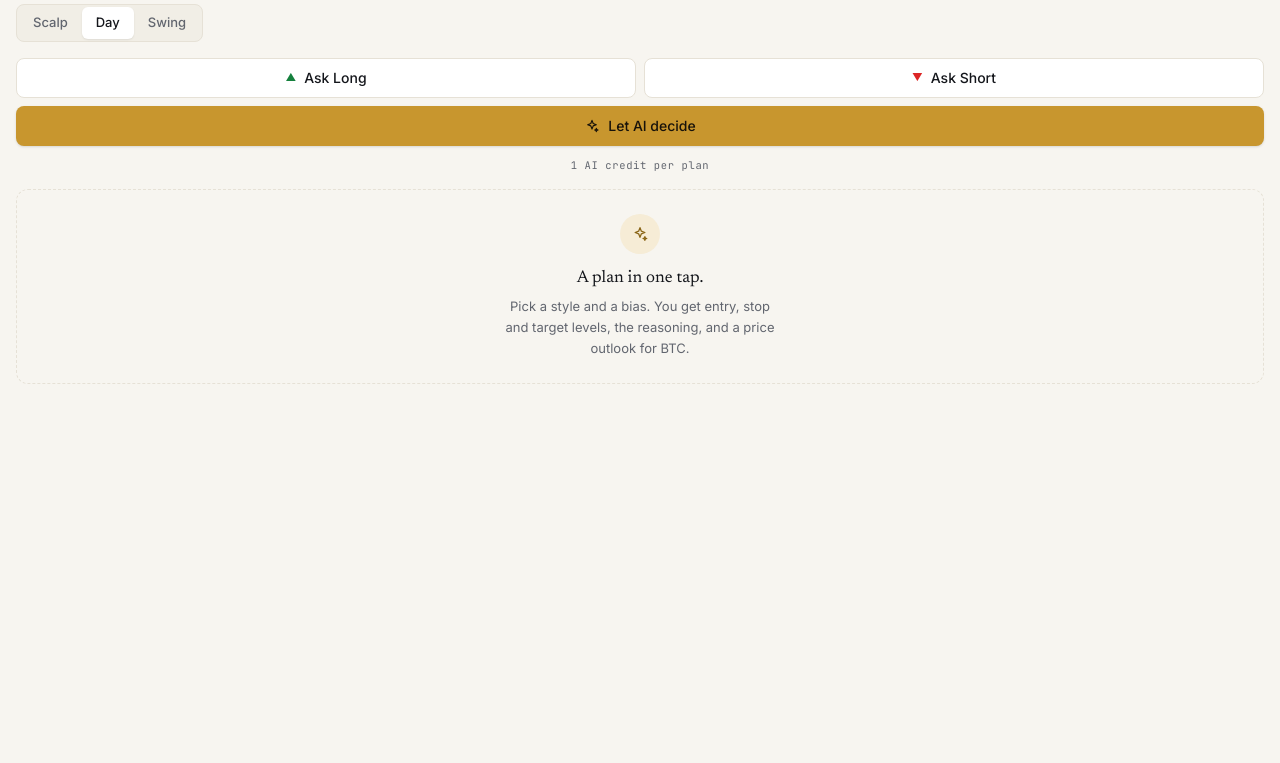
Test: Copilot › gives no hint when the daily trend disagrees or is unknown, and keeps the plain wait for Auto
Click the button "▼ Ask Short" at {"x": 954, "y": 78}, box x1=644 y1=58 x2=1264 y2=98
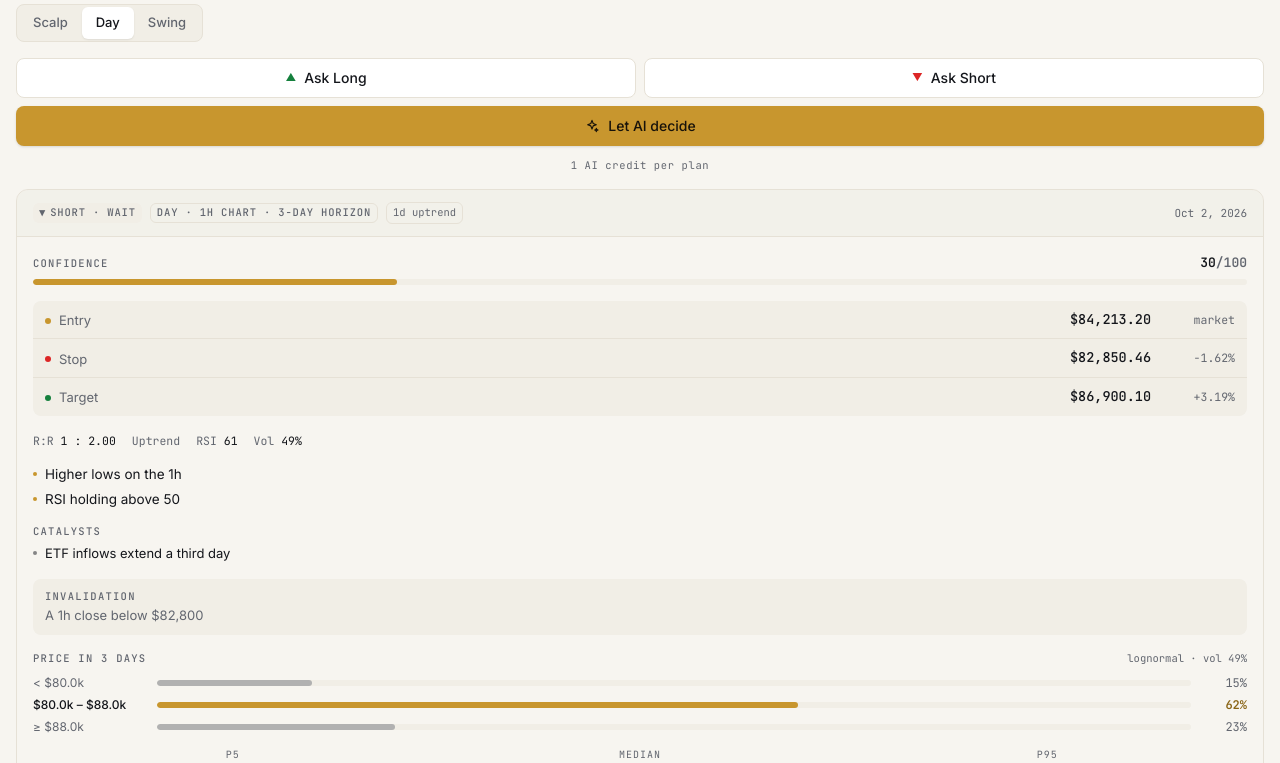
Check: the text "Neutral" is not shown
Check: the text "Short · wait" is shown, box x1=50 y1=205 x2=136 y2=219
Click the button "Let AI decide" at {"x": 640, "y": 126}, box x1=16 y1=106 x2=1264 y2=146
(page scrolled)
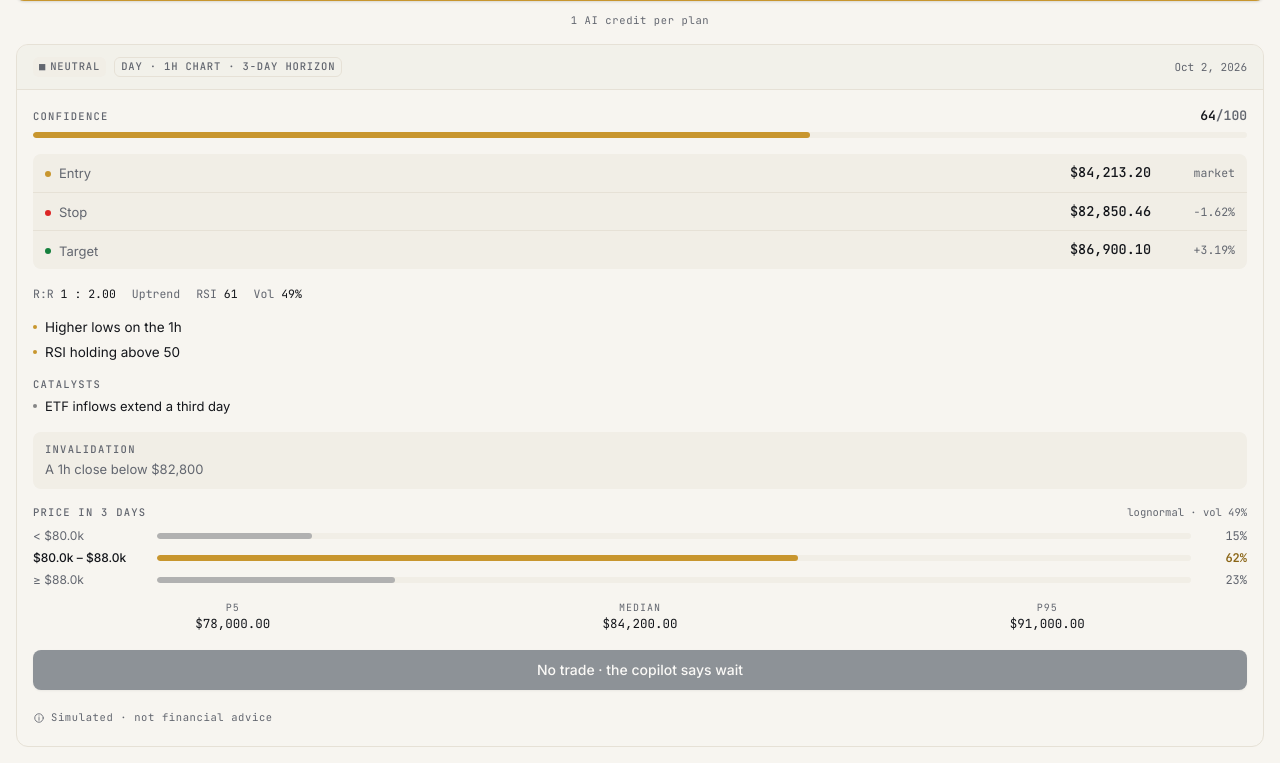
Check: the button "No trade · the copilot says wait" is disabled, box x1=33 y1=650 x2=1247 y2=690
Check: the text "1d uptrend" is gone
